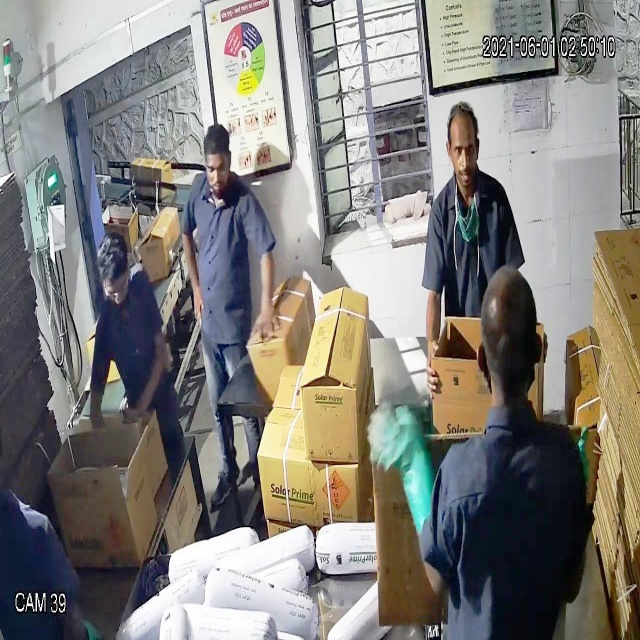Gafas: (97, 274, 133, 310)
Sin_gafas: (443, 135, 486, 168), (196, 154, 236, 187)
